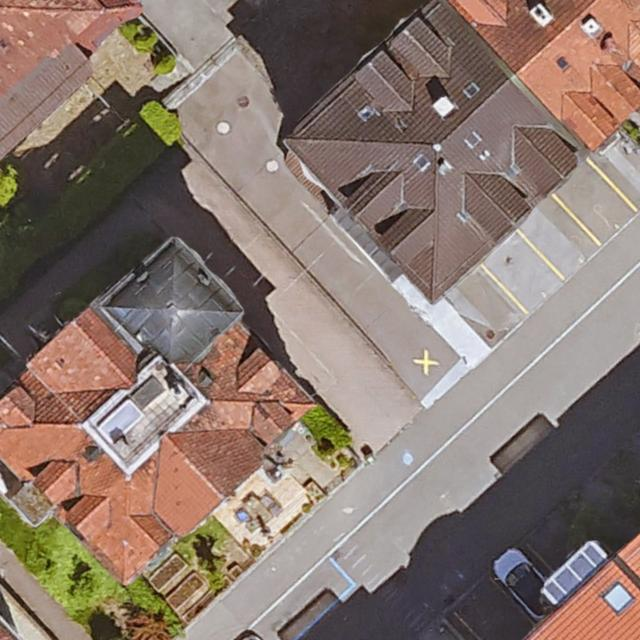tree: (70, 571, 110, 605)
